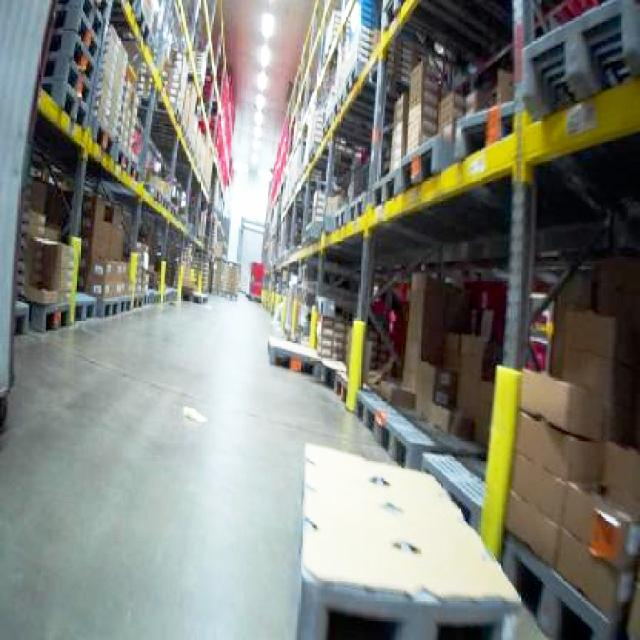ground: (0, 288, 400, 638)
pallet: (258, 0, 638, 638), (15, 0, 235, 332), (491, 255, 638, 638), (292, 440, 554, 638), (352, 385, 488, 529), (265, 332, 349, 397)
